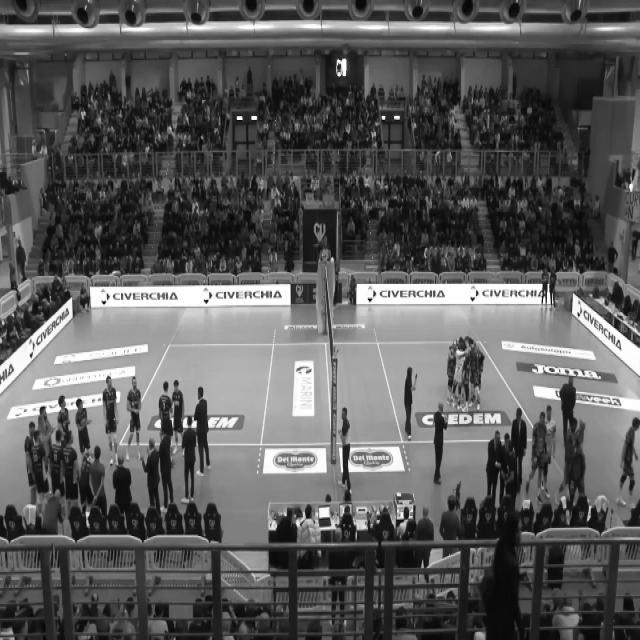volleyball court: (118, 340, 532, 445)
